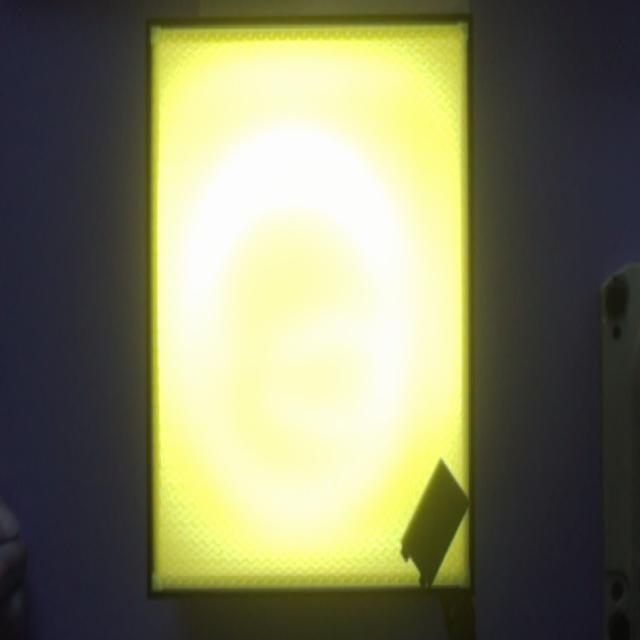bateria: (400, 457, 470, 589)
mesa: (146, 14, 476, 598)
